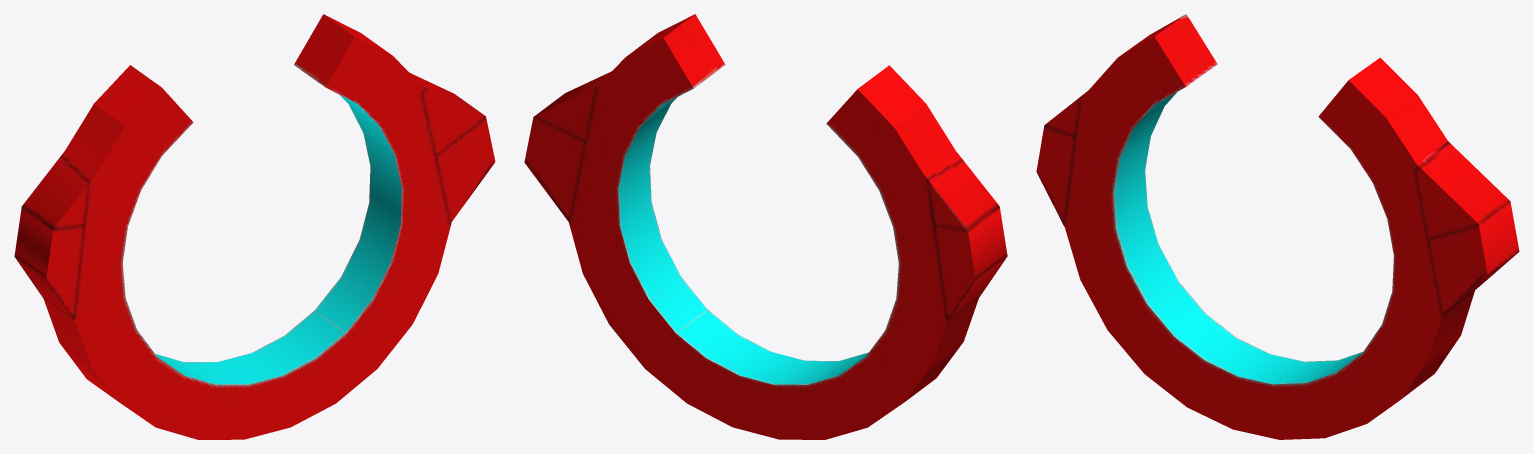
3 views of the same model, side by side, from view 1: azimuth 30°, elevation 25°; view 2: azimuth 150°, elevation 25°; view 3: azimuth 330°, elevation 25° (orthographic).
Parts seen in each view (by area): view 1: crcle; view 2: crcle; view 3: crcle.
Boxes of the visible parts, left/top/right/bottom form: crcle: left=14, top=14, right=495, bottom=439; crcle: left=524, top=14, right=1007, bottom=439; crcle: left=1036, top=14, right=1519, bottom=439.
Size of the model in its own units: 612 by 487 by 79.87.
1 material, 1 textured.
